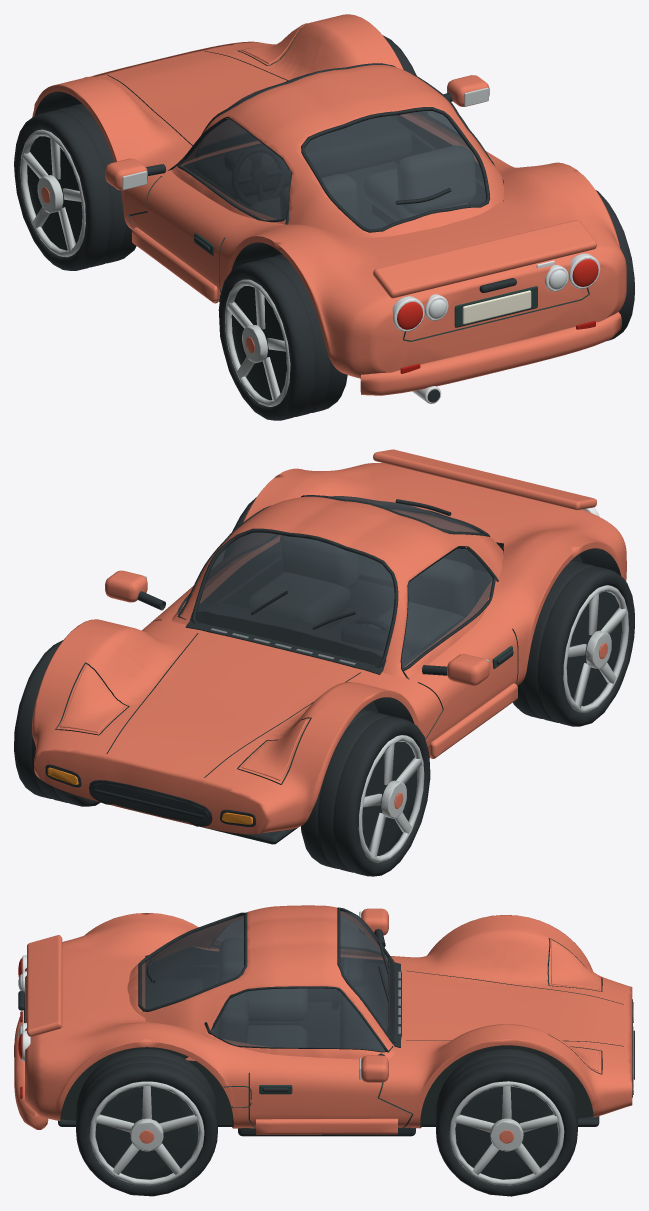
The model's file is raijin_lod1.fbx.
3 renders of one model, top to bottom at view 1: azimuth 30°, elevation 25°; view 2: azimuth 150°, elevation 25°; view 3: azimuth 270°, elevation 25°, orthographic. The views are drawn at different scales.
Visible parts, largest first — view 1: Body, Wheel_RL_Mesh, Wheel_FL_Mesh, Wheel_RR_Mesh; view 2: Body, Wheel_FL_Mesh, Wheel_RL_Mesh, Wheel_FR_Mesh; view 3: Body, Wheel_FR_Mesh, Wheel_RR_Mesh.
Boxes of the visible parts, left/top/right/bottom form: Body: left=32, top=14, right=626, bottom=403; Wheel_RL_Mesh: left=218, top=254, right=347, bottom=420; Wheel_FL_Mesh: left=14, top=103, right=136, bottom=270; Wheel_RR_Mesh: left=596, top=190, right=634, bottom=340; Body: left=32, top=449, right=626, bottom=844; Wheel_FL_Mesh: left=301, top=709, right=430, bottom=876; Wheel_RL_Mesh: left=513, top=560, right=634, bottom=726; Wheel_FR_Mesh: left=14, top=640, right=100, bottom=806; Body: left=14, top=905, right=634, bottom=1136; Wheel_FR_Mesh: left=436, top=1048, right=577, bottom=1196; Wheel_RR_Mesh: left=76, top=1048, right=217, bottom=1196.
Bounding box in the file's own units: 230 × 132 × 376.
